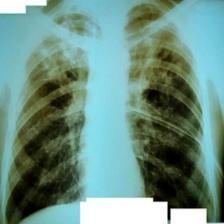tuberculosis: (3, 0, 222, 220)
